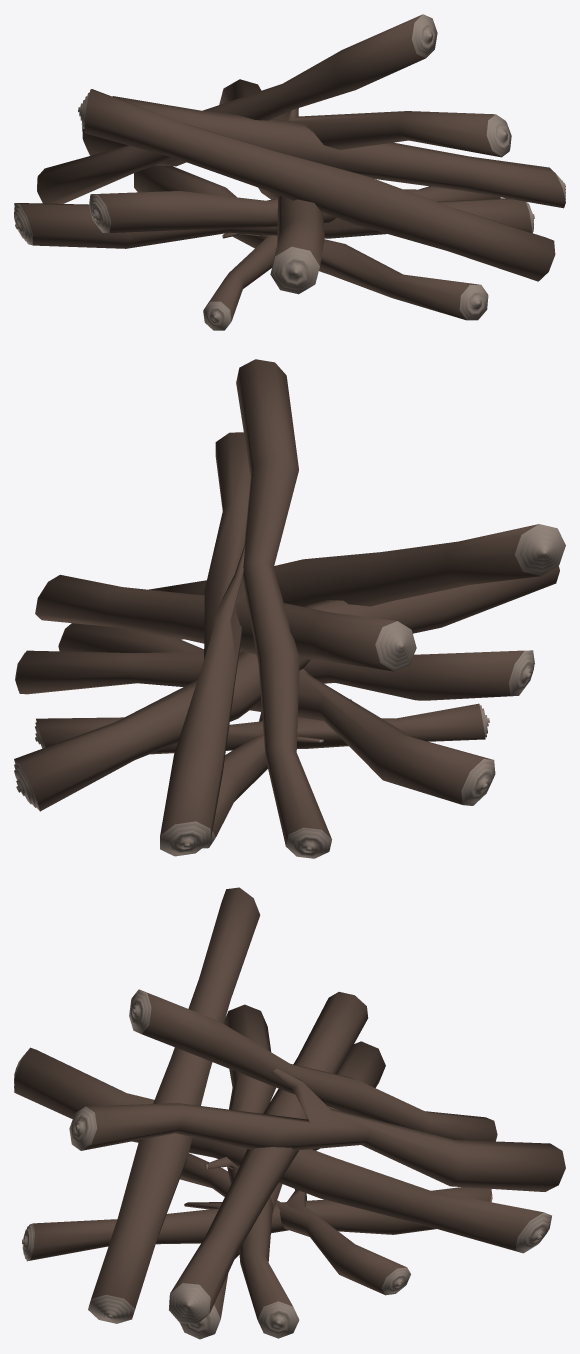
File: Msh_WoodsFire_Env.fbx
3 views of the same model, one above another, from view 1: azimuth 30°, elevation 25°; view 2: azimuth 150°, elevation 25°; view 3: azimuth 270°, elevation 25° (orthographic). The views are drawn at different scales.
Parts seen in each view (by area): view 1: Msh_WoodsFire_Env; view 2: Msh_WoodsFire_Env; view 3: Msh_WoodsFire_Env.
Part boxes in pixels (bbox=[...]): Msh_WoodsFire_Env: bbox=[14, 14, 565, 330]; Msh_WoodsFire_Env: bbox=[14, 359, 565, 858]; Msh_WoodsFire_Env: bbox=[14, 887, 565, 1339].
Size of the model in its own units: 371 by 371 by 211.
